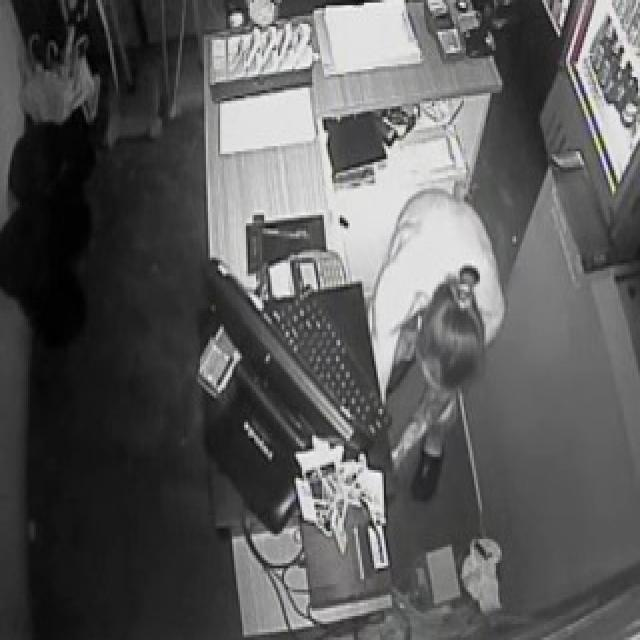thief: (401, 244, 491, 438)
